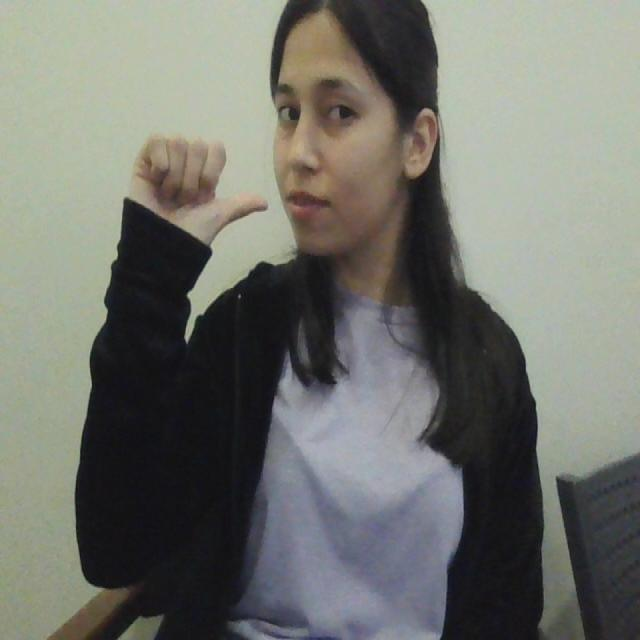icmek: (119, 130, 304, 260)
